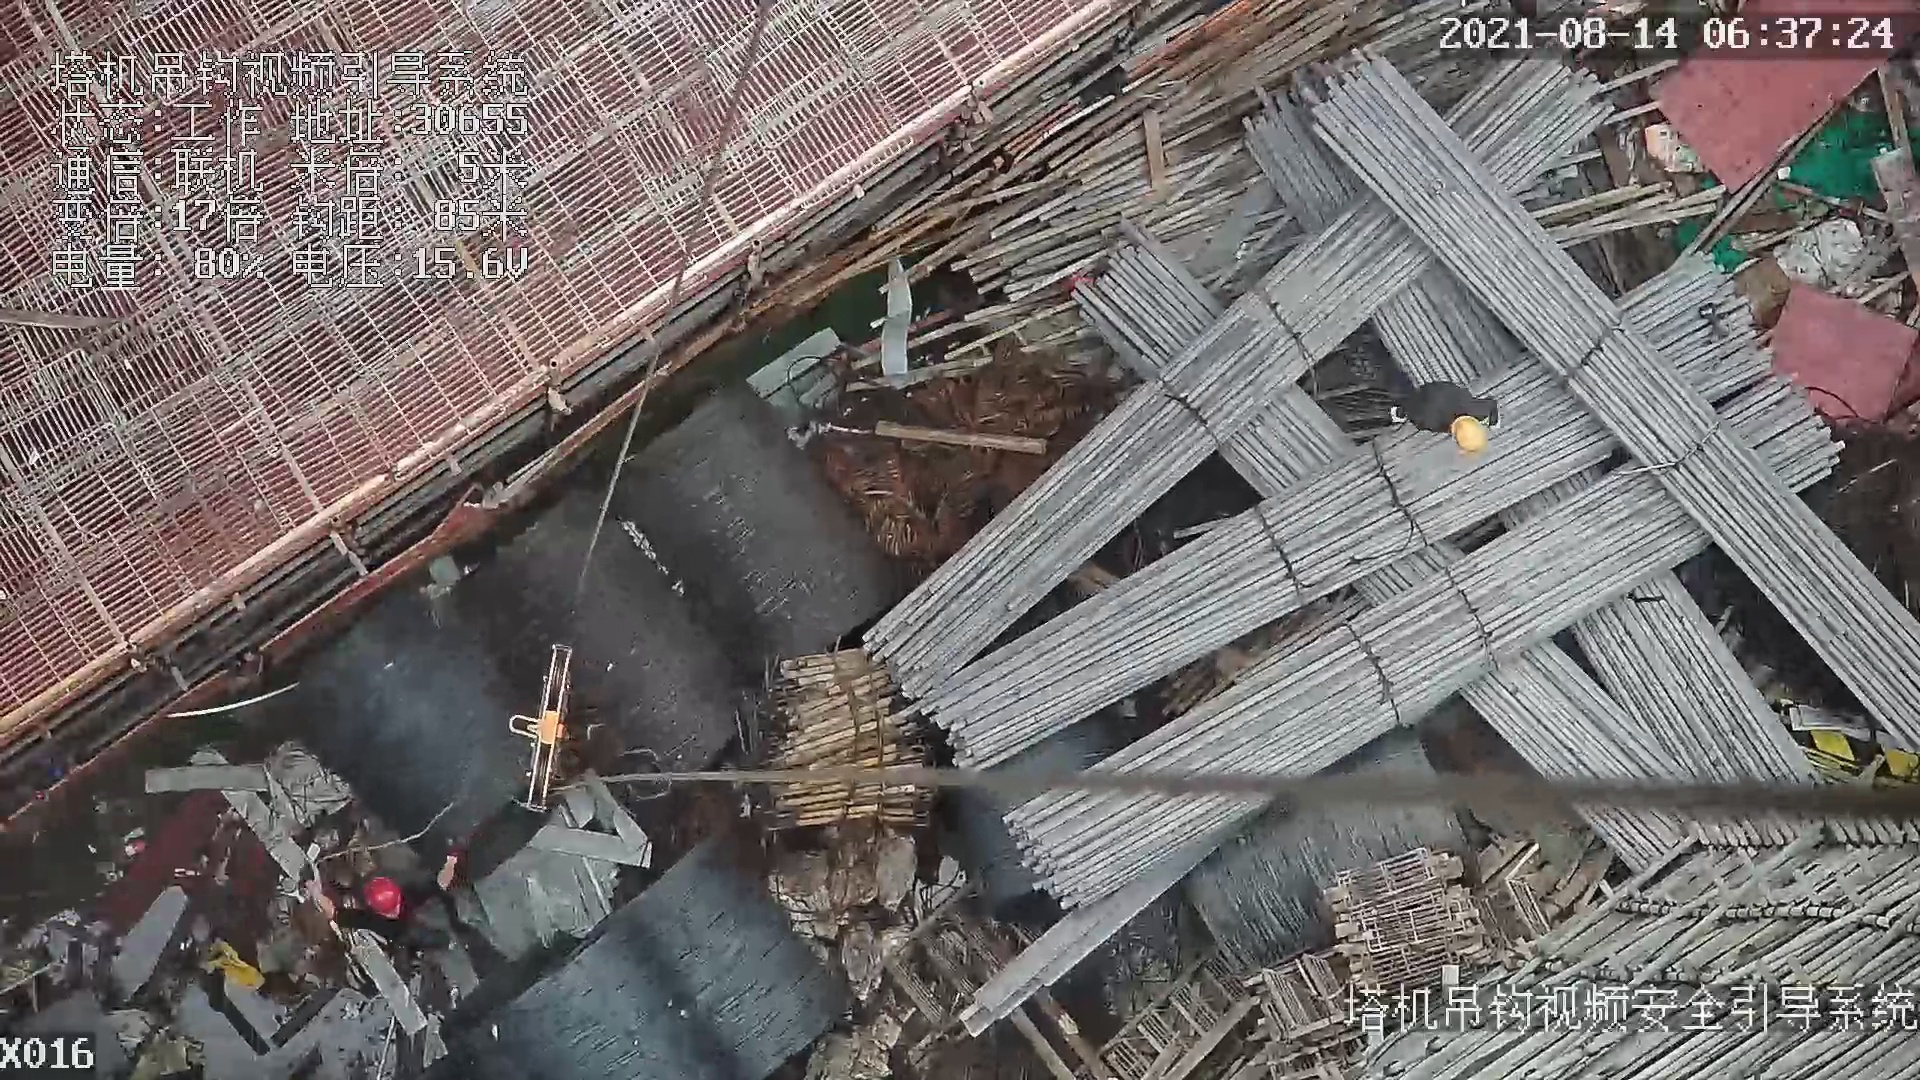helmet: (1452, 411, 1492, 458), (355, 875, 402, 913)
hook: (509, 635, 578, 812)
person: (304, 867, 472, 954), (1386, 380, 1504, 449)
scaffold: (995, 50, 1909, 836), (756, 655, 933, 808)
